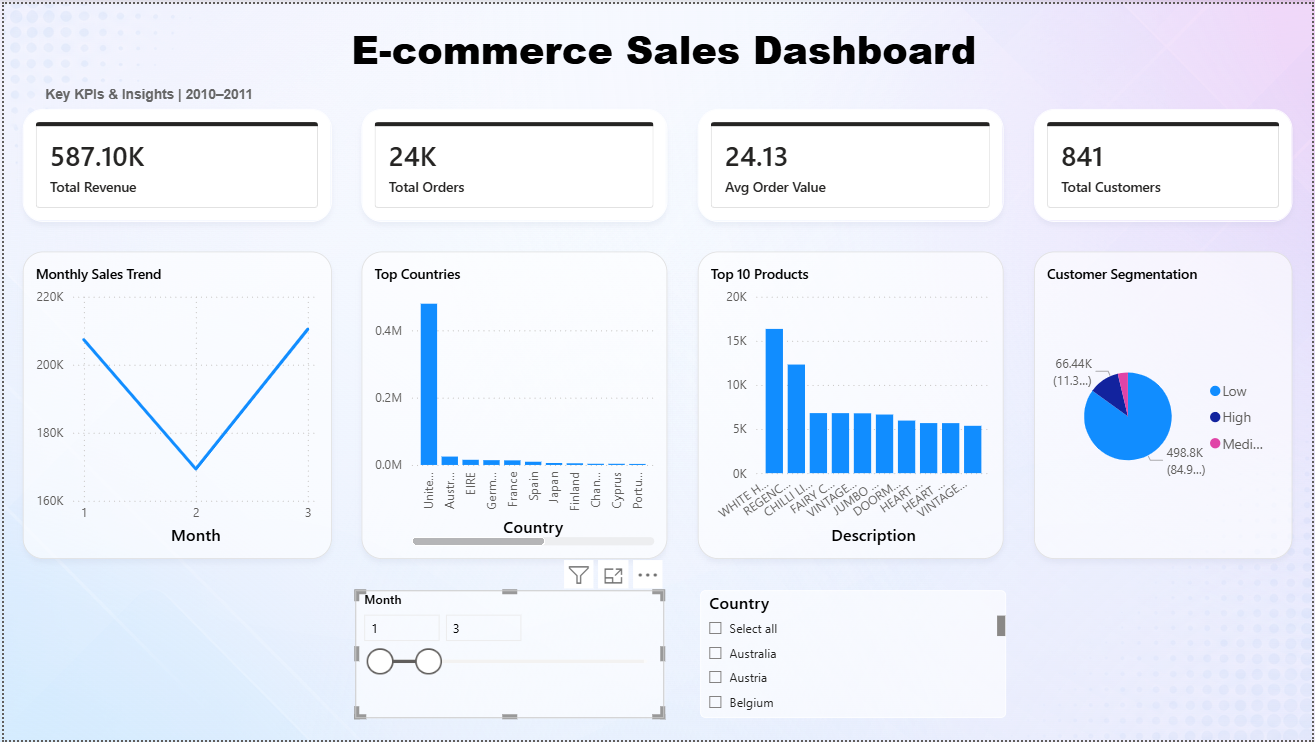

This screenshot's page, from the dashboard's own definition file:
{"tool":"powerbi","page":{"name":"Page 1","canvas":[1280,720],"ordinal":0},"visuals":[{"type":"cardVisual","fields":{"Data":["cleaned_ecommerce_data.Total Orders"]},"box":[349.7,102.7,299.6,110.1],"z":0},{"type":"cardVisual","fields":{"Data":["cleaned_ecommerce_data.Total Revenue"]},"box":[18.3,102.7,302,110.1],"z":1000},{"type":"cardVisual","fields":{"Data":["cleaned_ecommerce_data.Avg Order Value"]},"box":[678.7,102.7,299.6,110.1],"z":2000},{"type":"cardVisual","fields":{"Data":["cleaned_ecommerce_data.Total Customers"]},"box":[1007.6,102.7,253.1,110.1],"z":3000},{"type":"lineChart","title":"Monthly Sales Trend","fields":{"Category":["cleaned_ecommerce_data.Month"],"Y":["cleaned_ecommerce_data.Total Revenue"]},"box":[18.3,242.1,302,300.8],"z":4000},{"type":"columnChart","title":"Top Countries","fields":{"Category":["cleaned_ecommerce_data.Country"],"Y":["cleaned_ecommerce_data.Total Revenue"]},"box":[349.7,242.1,299.6,300.8],"z":5000},{"type":"columnChart","title":"Top 10 Products","fields":{"Category":["cleaned_ecommerce_data.Description"],"Y":["cleaned_ecommerce_data.Total Revenue"]},"box":[678.7,242.1,299.6,300.8],"z":6000},{"type":"pieChart","title":"Customer Segmentation","fields":{"Category":["cleaned_ecommerce_data.Customer Type"],"Y":["cleaned_ecommerce_data.Total Revenue"]},"box":[1007.6,242.1,253.1,300.8],"z":7000},{"type":"slicer","fields":{"Values":["cleaned_ecommerce_data.Month"]},"box":[343.6,573.5,302,124.7],"z":8000},{"type":"slicer","fields":{"Values":["cleaned_ecommerce_data.Country"]},"box":[681.1,573.5,299.6,124.7],"z":9000},{"type":"textbox","box":[15.9,13.5,1259.5,62.4],"z":10000},{"type":"textbox","box":[35.5,73.4,221.3,29.3],"z":11000}]}

Visuals, with their boxes in screenshot pixels (x1, y1, x2, y2), scaled from the page's 1280x720 canvas onto the 1315x742 screenshot:
cardVisual - cleaned_ecommerce_data.Total Orders: <region>359, 106, 667, 219</region>
cardVisual - cleaned_ecommerce_data.Total Revenue: <region>19, 106, 329, 219</region>
cardVisual - cleaned_ecommerce_data.Avg Order Value: <region>697, 106, 1005, 219</region>
cardVisual - cleaned_ecommerce_data.Total Customers: <region>1035, 106, 1295, 219</region>
"Monthly Sales Trend" lineChart: <region>19, 249, 329, 559</region>
"Top Countries" columnChart: <region>359, 249, 667, 559</region>
"Top 10 Products" columnChart: <region>697, 249, 1005, 559</region>
"Customer Segmentation" pieChart: <region>1035, 249, 1295, 559</region>
slicer - cleaned_ecommerce_data.Month: <region>353, 591, 663, 720</region>
slicer - cleaned_ecommerce_data.Country: <region>700, 591, 1008, 720</region>
textbox: <region>16, 14, 1310, 78</region>
textbox: <region>36, 76, 264, 106</region>
